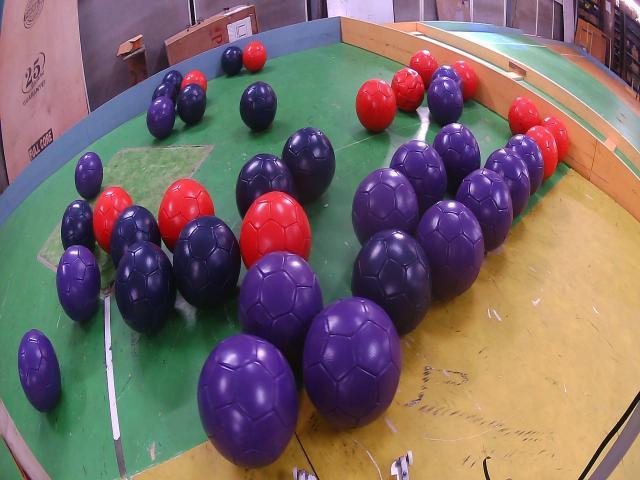jambhalya: (198, 335, 299, 468), (302, 297, 402, 428), (239, 252, 322, 363), (416, 200, 484, 300), (351, 168, 419, 245), (456, 168, 512, 252), (390, 140, 448, 217), (18, 328, 61, 412), (56, 245, 100, 322), (432, 123, 480, 192), (485, 148, 530, 218), (506, 133, 544, 194), (428, 77, 464, 125), (75, 152, 104, 198), (146, 97, 175, 138), (431, 65, 464, 93)
kaalyya: (351, 230, 432, 335), (172, 215, 241, 308), (115, 242, 176, 333), (281, 127, 335, 203), (235, 153, 295, 218), (110, 205, 161, 268), (240, 82, 278, 132), (61, 200, 96, 252), (176, 83, 206, 125), (221, 47, 242, 77), (151, 82, 178, 105), (162, 70, 182, 93)
